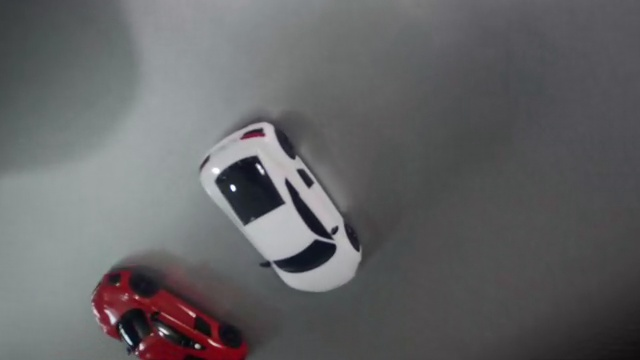car: (199, 119, 364, 294), (92, 270, 249, 359)
